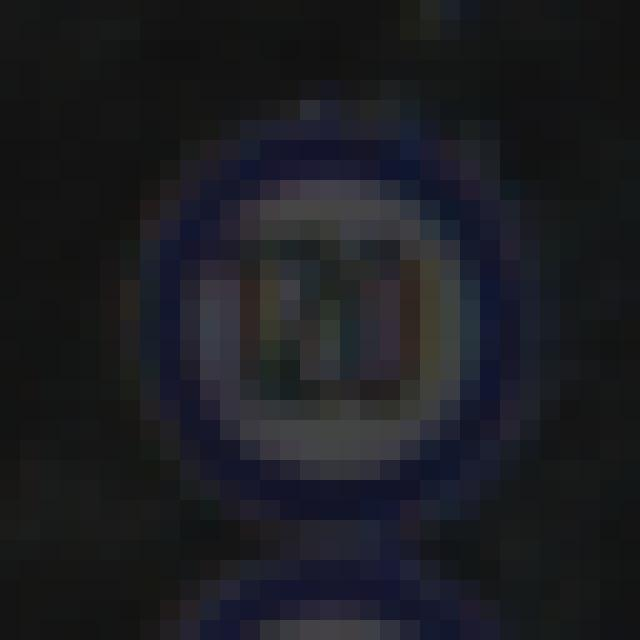SPEED LIMIT 120: (138, 123, 516, 511)
